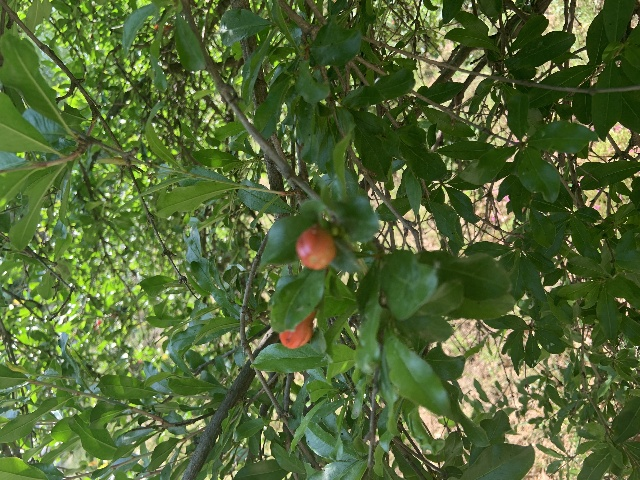bud: (295, 224, 336, 270), (279, 311, 316, 349)
